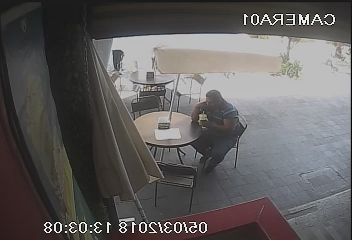libre: (118, 60, 202, 110)
ocupado: (138, 92, 244, 201)
